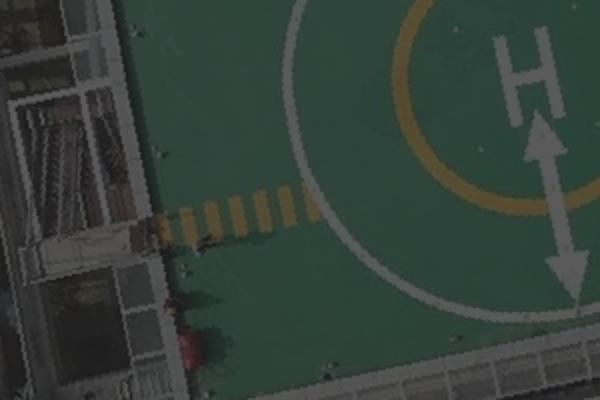Apron: (379, 1, 600, 227)
